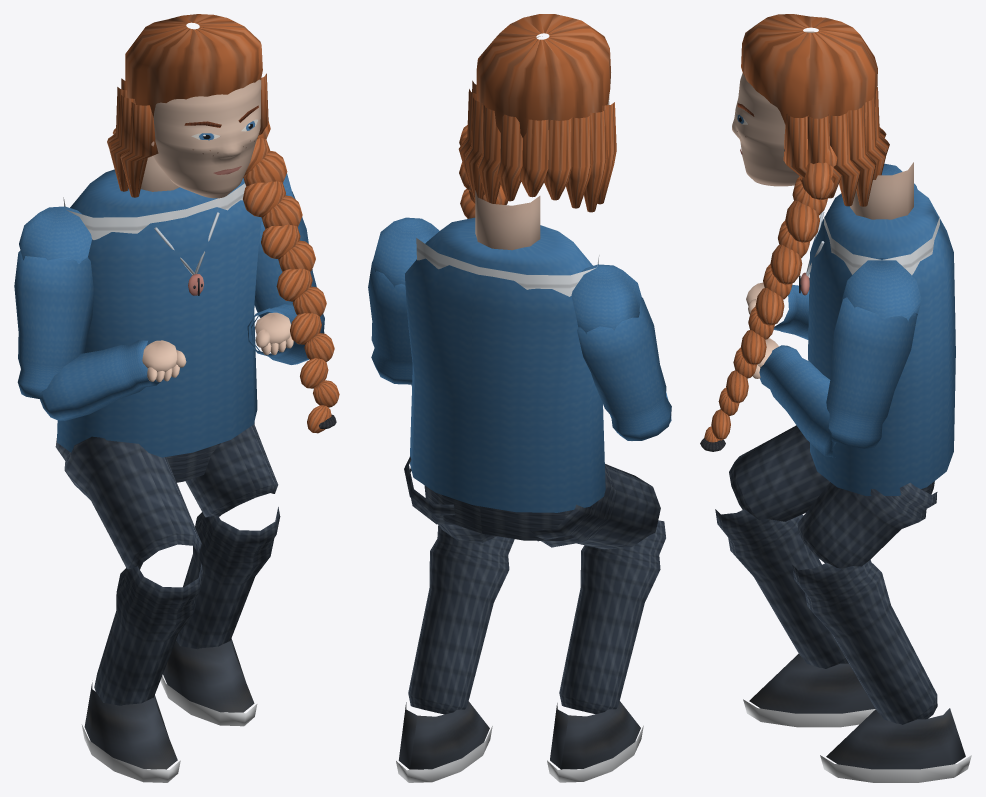
Rendered from HERO-04_emma-crouched.glb.
3 renders of one model, left to right at view 1: azimuth 30°, elevation 25°; view 2: azimuth 150°, elevation 25°; view 3: azimuth 270°, elevation 25°, orthographic. The views are drawn at different scales.
Parts seen in each view (by area): view 1: emma · soles; view 2: emma · soles; view 3: emma · soles.
Part boxes in pixels (x1=…): emma · soles: x1=14, y1=14, x2=339, y2=782; emma · soles: x1=368, y1=14, x2=671, y2=782; emma · soles: x1=700, y1=14, x2=971, y2=782.
Size of the model in its own units: 0.5606 by 1.29 by 0.4461.
Materials: 2 (2 with a texture image).
